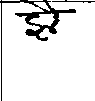ai_matra: (17, 0, 60, 11)
